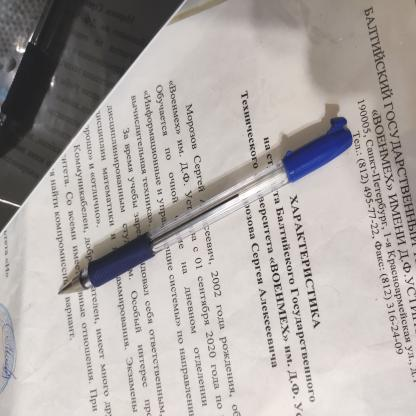Pen: (32, 116, 363, 349)
